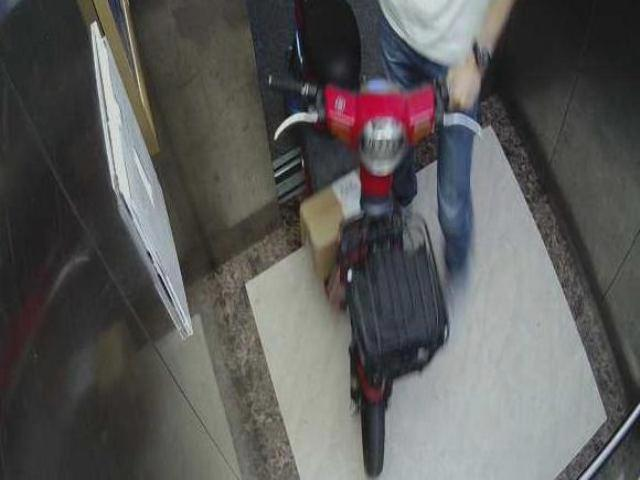emotor: (272, 7, 463, 480)
